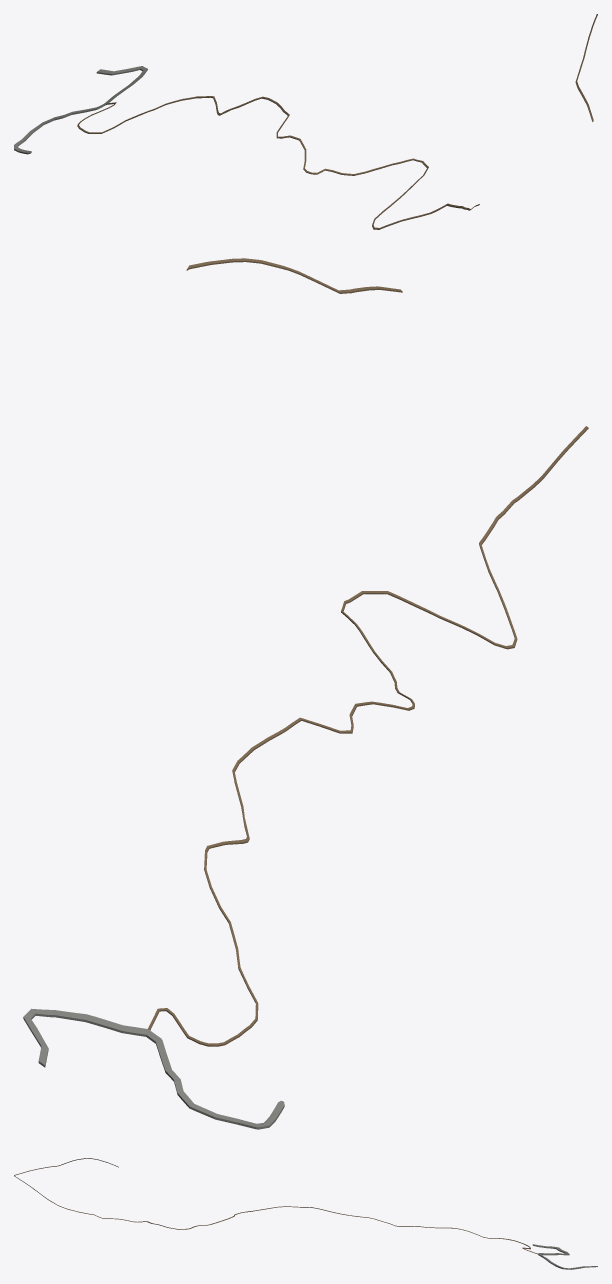
File: 16-54701-29735.38187baf.glb
3 renders of one model, top to bottom at view 1: azimuth 30°, elevation 25°; view 2: azimuth 150°, elevation 25°; view 3: azimuth 270°, elevation 25°, orthographic. The views are drawn at different scales.
Size of the model in its own units: 298 by 230 by 583.
